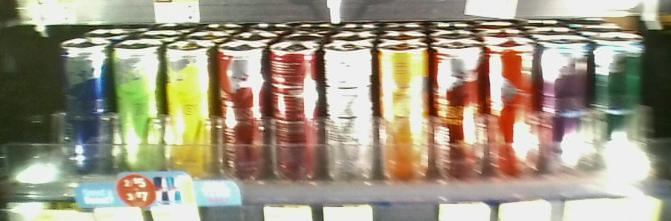bottle: (56, 33, 108, 192), (432, 35, 485, 187), (268, 39, 322, 187), (113, 38, 162, 190), (165, 38, 213, 192), (379, 39, 429, 185), (541, 40, 591, 184), (217, 42, 265, 191), (326, 42, 375, 186), (489, 37, 537, 184), (598, 42, 646, 178)
